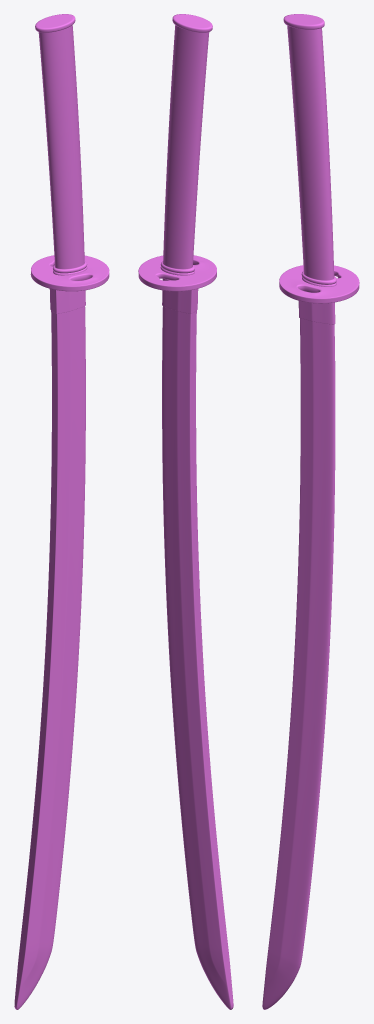
File: katana cel.fbx
3 renders of one model, left to right at view 1: azimuth 30°, elevation 25°; view 2: azimuth 150°, elevation 25°; view 3: azimuth 330°, elevation 25°, orthographic. The views are drawn at different scales.
Visible parts, largest first — view 1: katana; view 2: katana; view 3: katana.
Part boxes in pixels (box(x1,y1,x2,y2)): katana: box(14, 14, 109, 1009); katana: box(138, 14, 233, 1009); katana: box(262, 14, 359, 1009).
Bounding box in the file's own units: 12.51 × 132 × 9.6.
